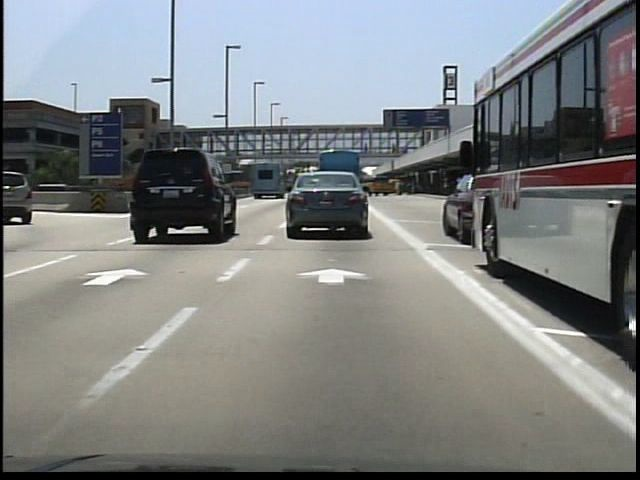person: (392, 177, 405, 199), (388, 136, 401, 158), (358, 136, 372, 156)
